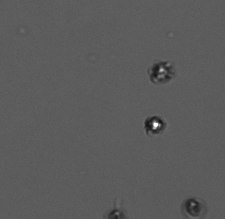Dead Cell: (149, 60, 176, 85), (182, 197, 206, 216)
Living Cell: (144, 115, 166, 135)
